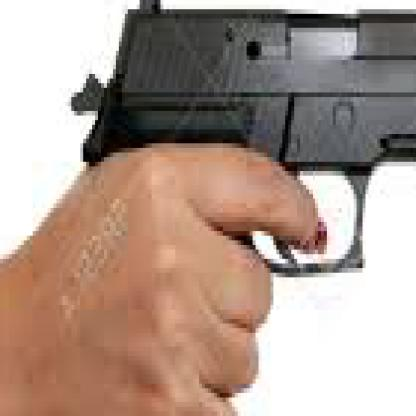gun: (62, 0, 413, 412)
